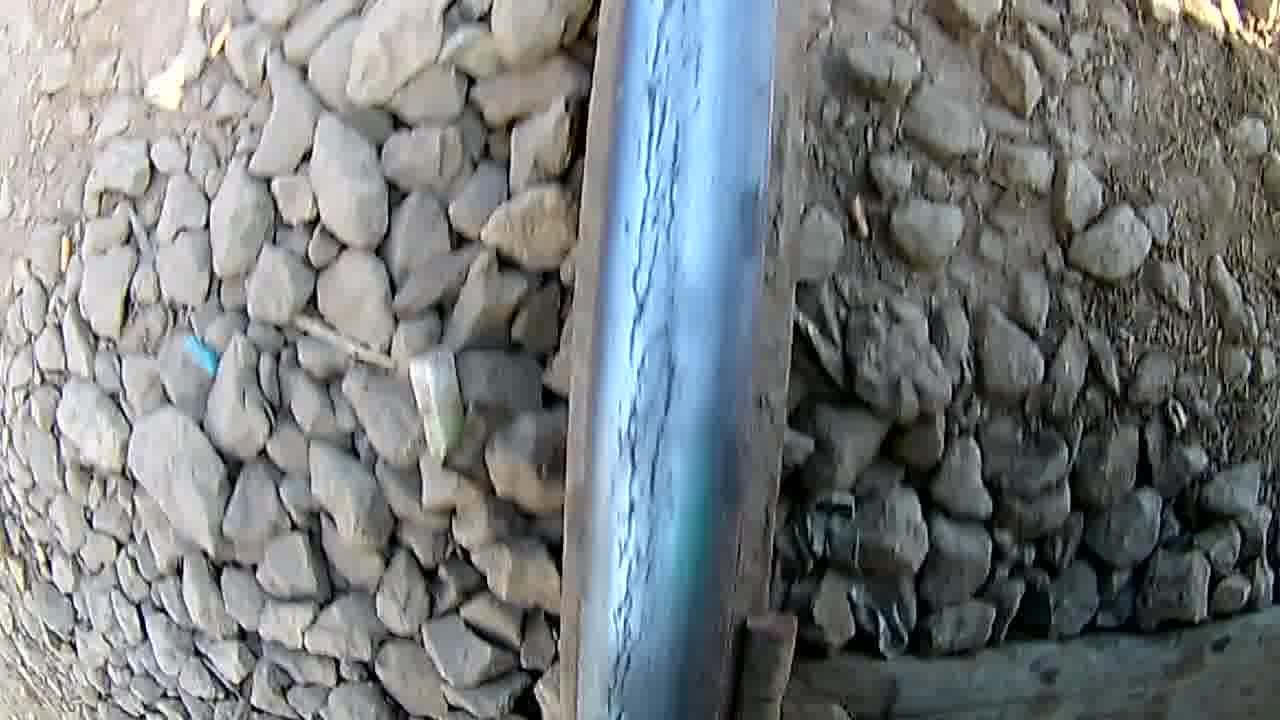normal_track: (604, 3, 704, 720)
